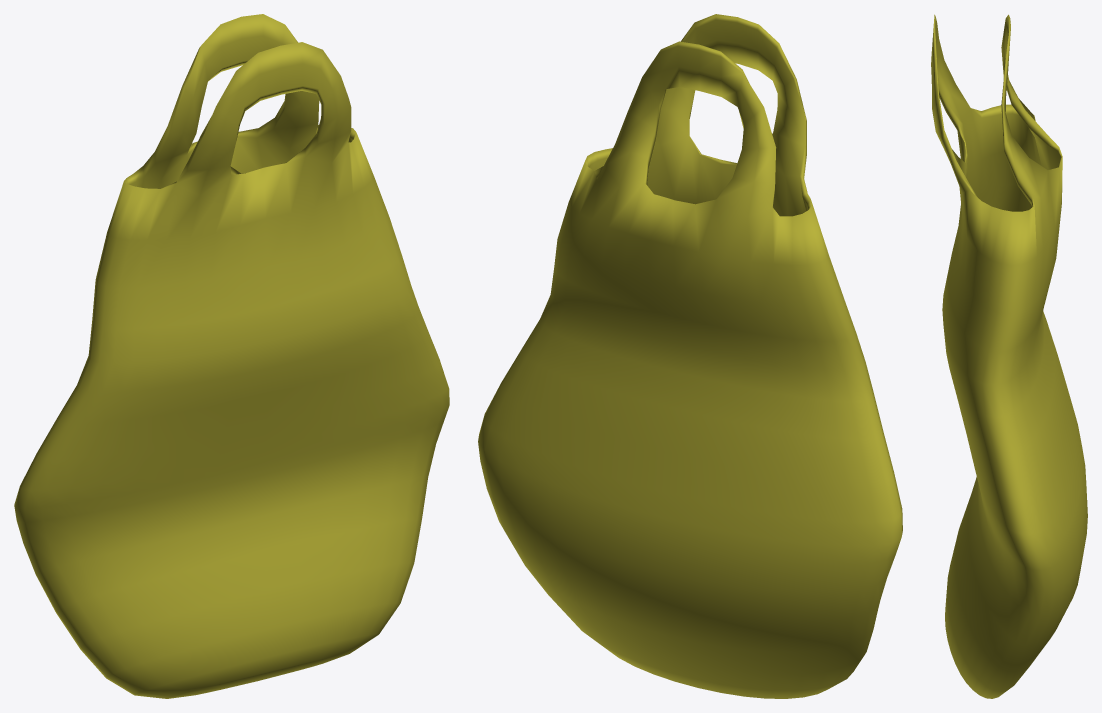
The model's file is BolsaPlastico_02.fbx.
The picture shows the model from 3 angles, left to right: view 1: azimuth 30°, elevation 25°; view 2: azimuth 150°, elevation 25°; view 3: azimuth 270°, elevation 25°; orthographic projection. The views are drawn at different scales.
Visible parts, largest first — view 1: BolsaPlastico_02; view 2: BolsaPlastico_02; view 3: BolsaPlastico_02.
Part boxes in pixels (bbox=[...]): BolsaPlastico_02: bbox=[14, 14, 449, 698]; BolsaPlastico_02: bbox=[478, 14, 902, 698]; BolsaPlastico_02: bbox=[931, 14, 1087, 698].
Bounding box in the file's own units: 46.95 × 68.6 × 15.23.
